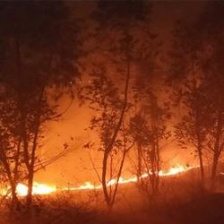fire: (1, 142, 222, 205)
